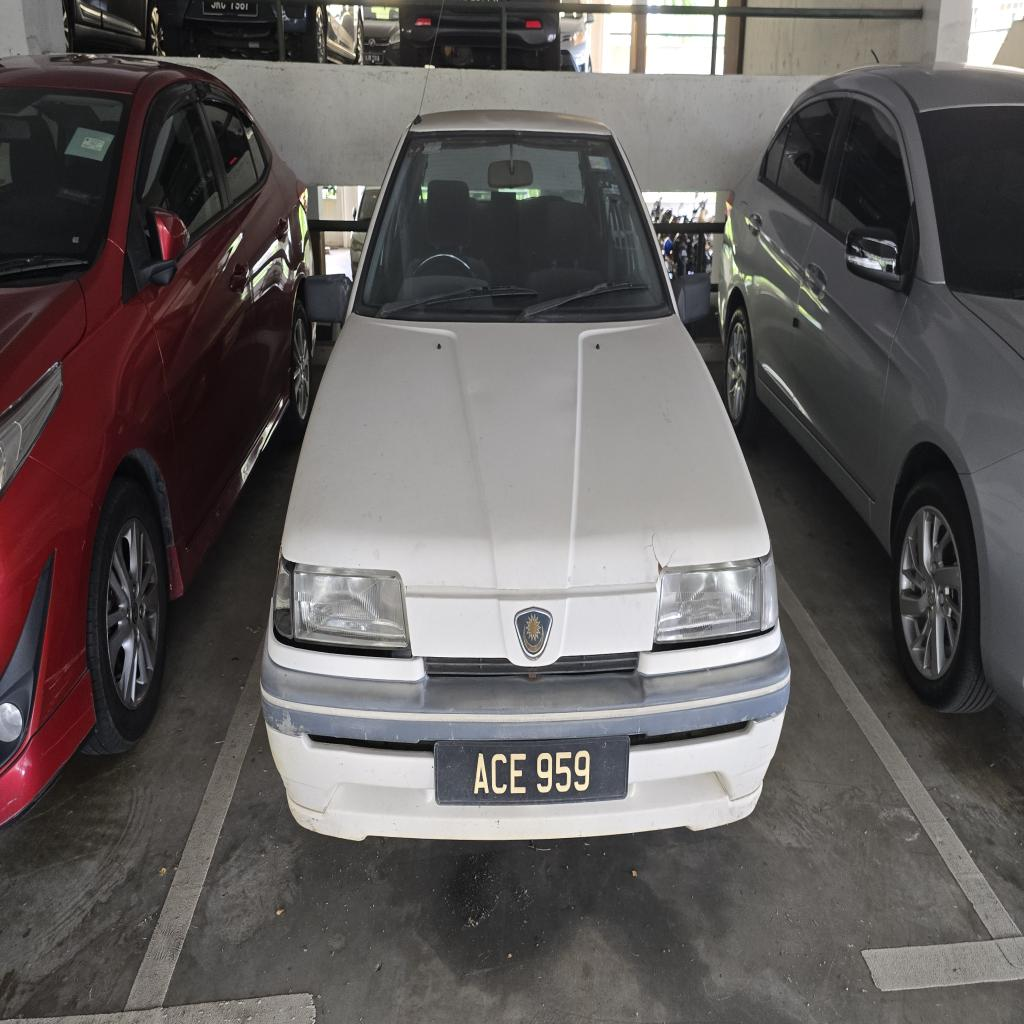car: (262, 112, 789, 838)
car plate: (434, 737, 629, 804)
